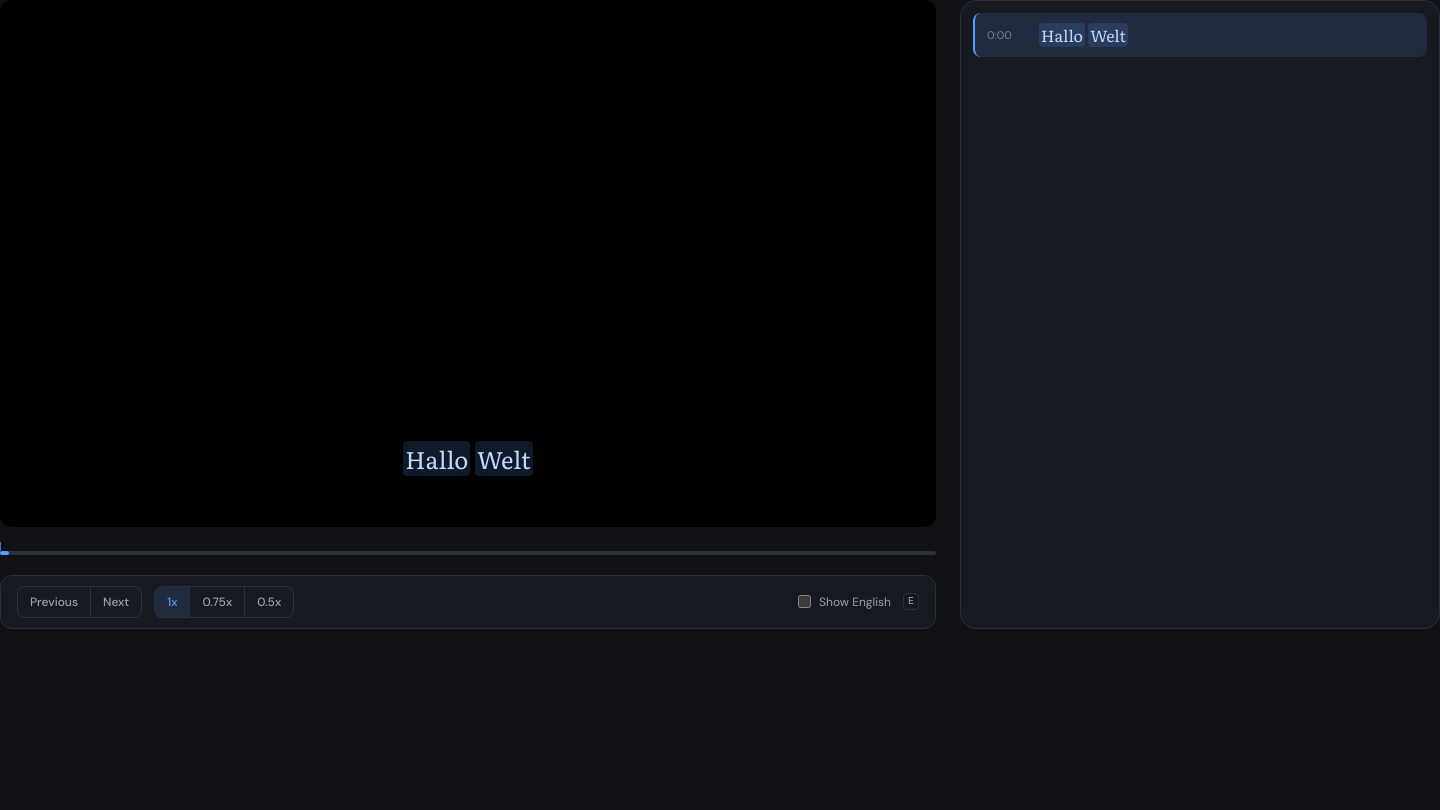
Test: video overlay › pauses the player and opens the card when a word is clicked
Click the 2nd text "Welt". click: (504, 458)
box: top-left (475, 440), bottom-right (533, 476)
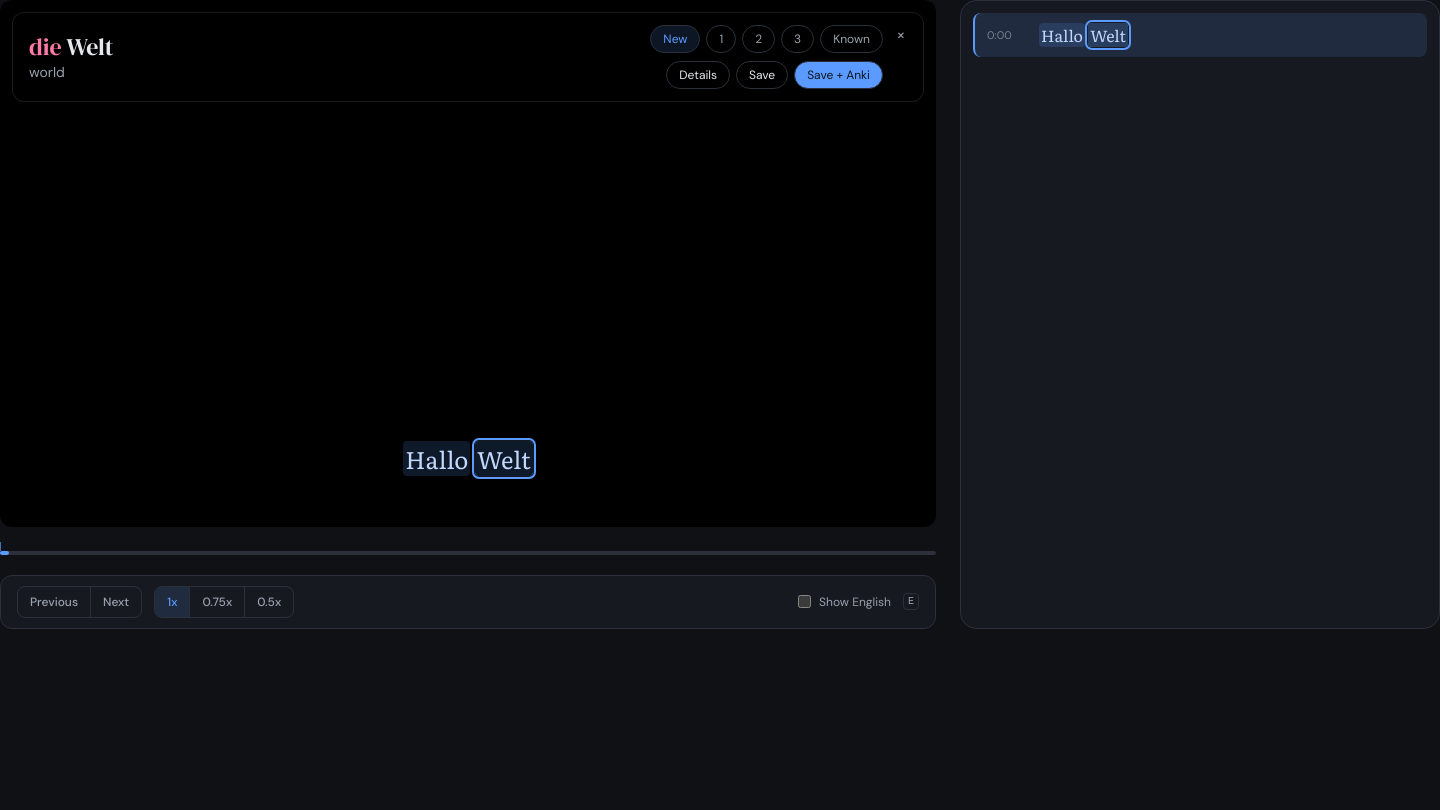
Check: the element with test id "word-card" is shown, box top-left (12, 12), bottom-right (924, 102)
